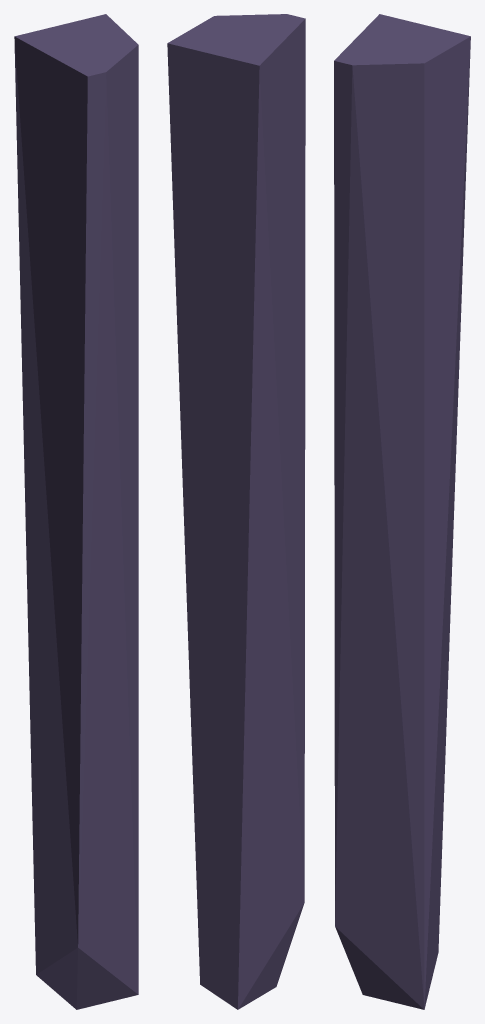
3 renders of one model, left to right at view 1: azimuth 30°, elevation 25°; view 2: azimuth 150°, elevation 25°; view 3: azimuth 330°, elevation 25°, orthographic.
Bounding box in the file's own units: 2.26 × 22.38 × 2.55.
